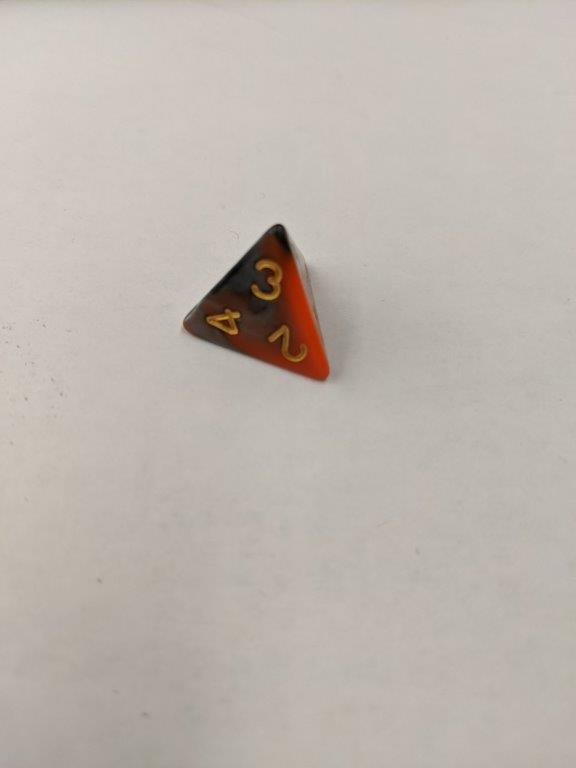d4-3: (180, 218, 337, 391)
